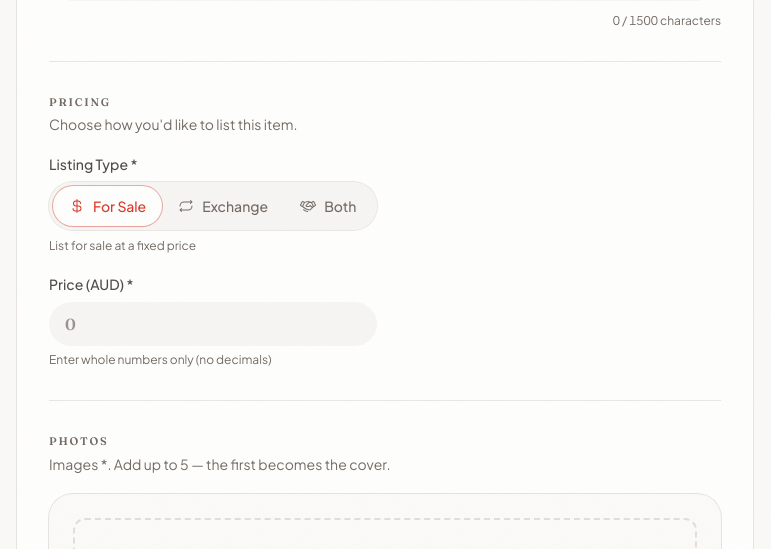
it: PostAd › should show both price and exchange fields when "both" type is selected
(page scrolled)
Click the tab "Both" at (328, 206), box [284, 186, 372, 226]
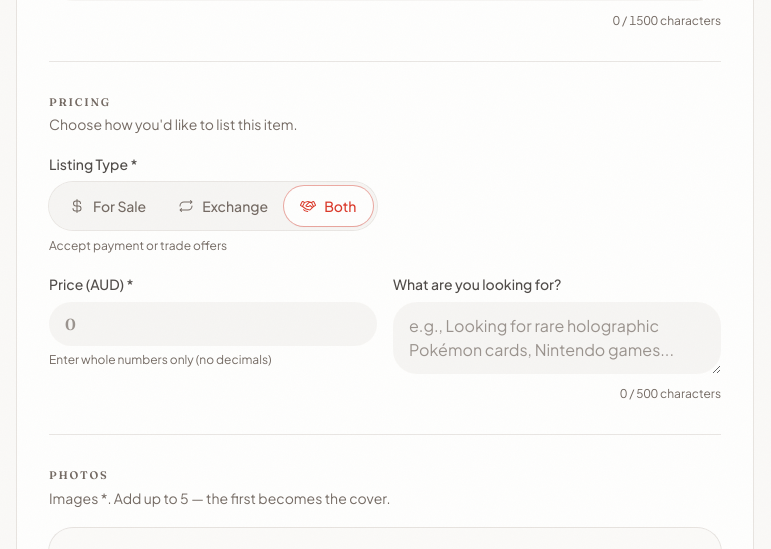
Expected: the text "Price (AUD) *" is shown, [49, 275, 134, 293]
Expected: the text "What are you looking for?" is shown, [393, 275, 561, 293]
